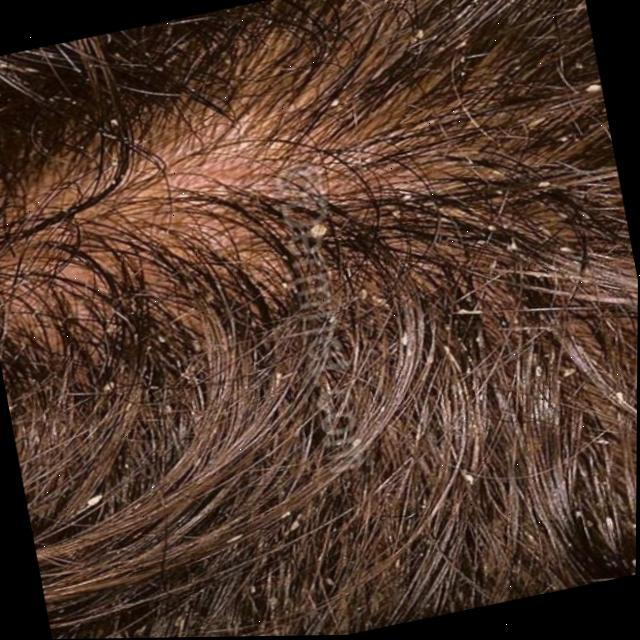Eczema: (121, 106, 392, 263)
